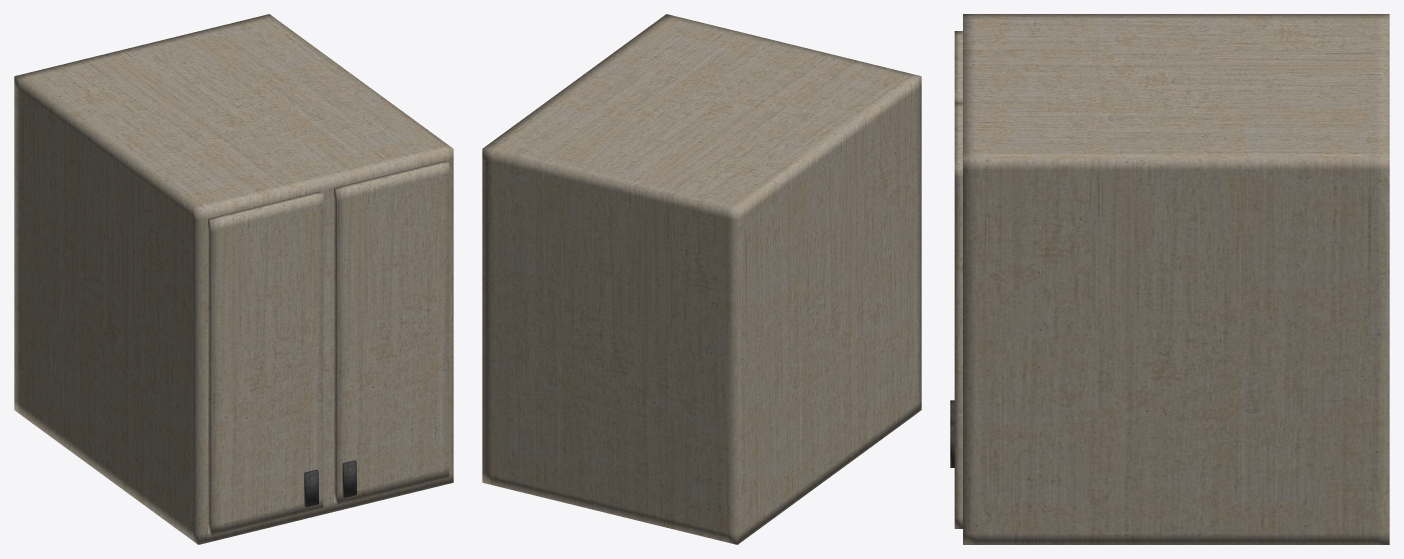
The model's file is cabinet.high.003.fbx.
3 renders of one model, left to right at view 1: azimuth 30°, elevation 25°; view 2: azimuth 150°, elevation 25°; view 3: azimuth 270°, elevation 25°, orthographic. The views are drawn at different scales.
Parts seen in each view (by area): view 1: Base, Drawer.001, Drawer.002, Handle.001, Handle.002; view 2: Base; view 3: Base, Drawer.002, Drawer.001.
Part boxes in pixels (x1,y1,x2,y2): Base: [14, 14, 453, 544]; Drawer.001: [208, 191, 323, 535]; Drawer.002: [334, 161, 449, 504]; Handle.001: [304, 469, 318, 507]; Handle.002: [342, 460, 356, 497]; Base: [482, 14, 921, 544]; Base: [963, 14, 1389, 544]; Drawer.002: [954, 102, 962, 528]; Drawer.001: [954, 31, 962, 102].
Bounding box in the file's own units: 80 × 100 × 103.
